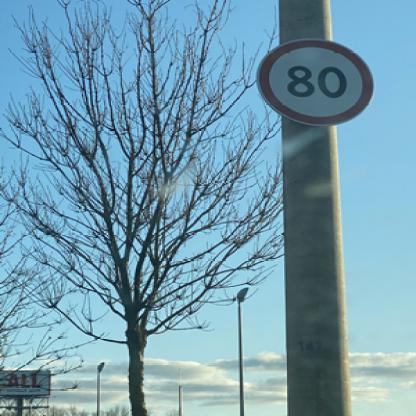speedlimit: (255, 37, 373, 125)
